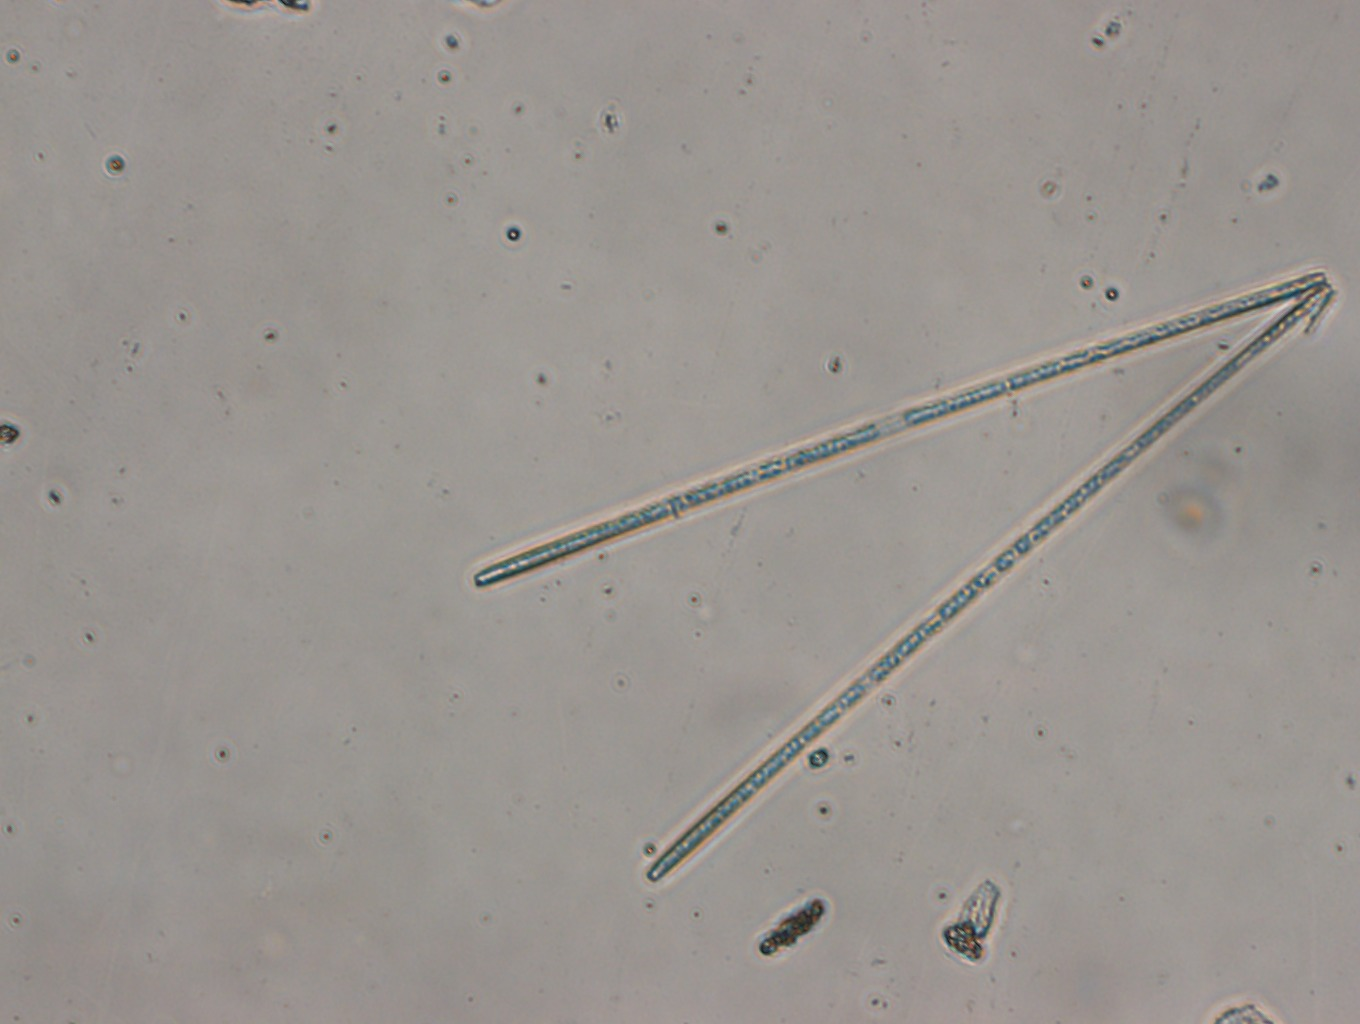thalassionema frauenfeldii: (470, 267, 1338, 882)
